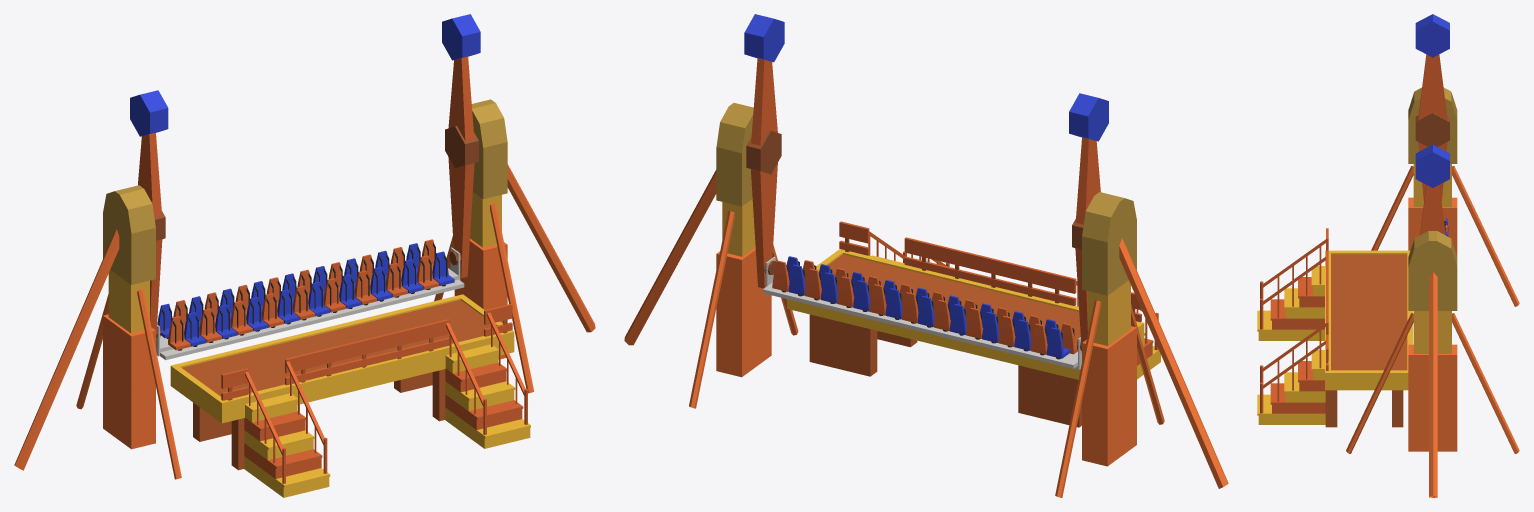
The model's file is TopSpin.fbx.
3 renders of one model, left to right at view 1: azimuth 30°, elevation 25°; view 2: azimuth 150°, elevation 25°; view 3: azimuth 270°, elevation 25°, orthographic. The views are drawn at different scales.
Visible parts, largest first — view 1: TopSpin_Base, TopSpin_Seats, TopSpin_Part1, TopSpin_Part2; view 2: TopSpin_Base, TopSpin_Seats, TopSpin_Part1, TopSpin_Part2; view 3: TopSpin_Base, TopSpin_Part2, TopSpin_Part1.
Part boxes in pixels (x1,y1,x2,y2): TopSpin_Base: (14, 99, 595, 497); TopSpin_Seats: (156, 239, 464, 360); TopSpin_Part1: (442, 14, 480, 278); TopSpin_Part2: (130, 90, 168, 340); TopSpin_Base: (624, 103, 1228, 497); TopSpin_Seats: (763, 256, 1081, 369); TopSpin_Part1: (744, 14, 784, 288); TopSpin_Part2: (1069, 93, 1108, 352); TopSpin_Base: (1257, 87, 1519, 497); TopSpin_Part2: (1415, 14, 1449, 201); TopSpin_Part1: (1415, 144, 1449, 235).
Bounding box in the file's own units: 1647 × 941 × 754.
